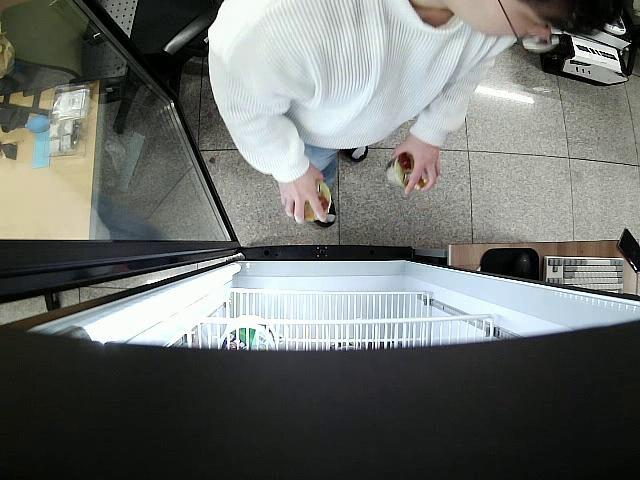04_chapagetti_S: (292, 178, 334, 224), (384, 152, 430, 193)
